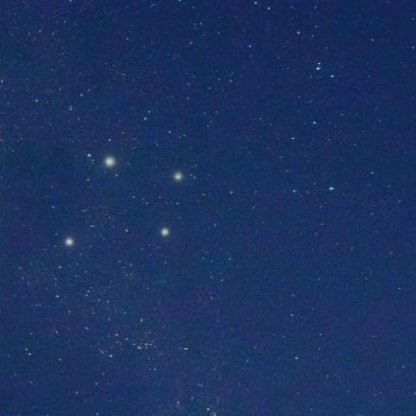Southern Cross: (97, 151, 121, 176), (152, 222, 171, 244), (170, 165, 191, 184), (60, 230, 77, 250)
